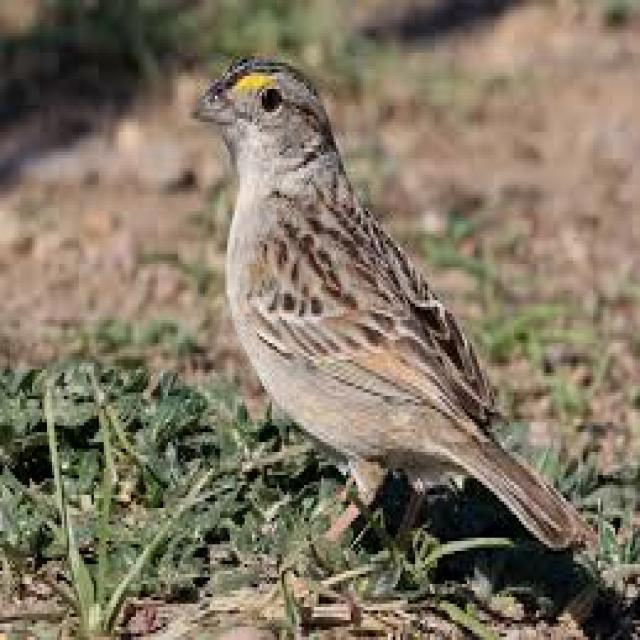bird: (194, 51, 556, 534)
